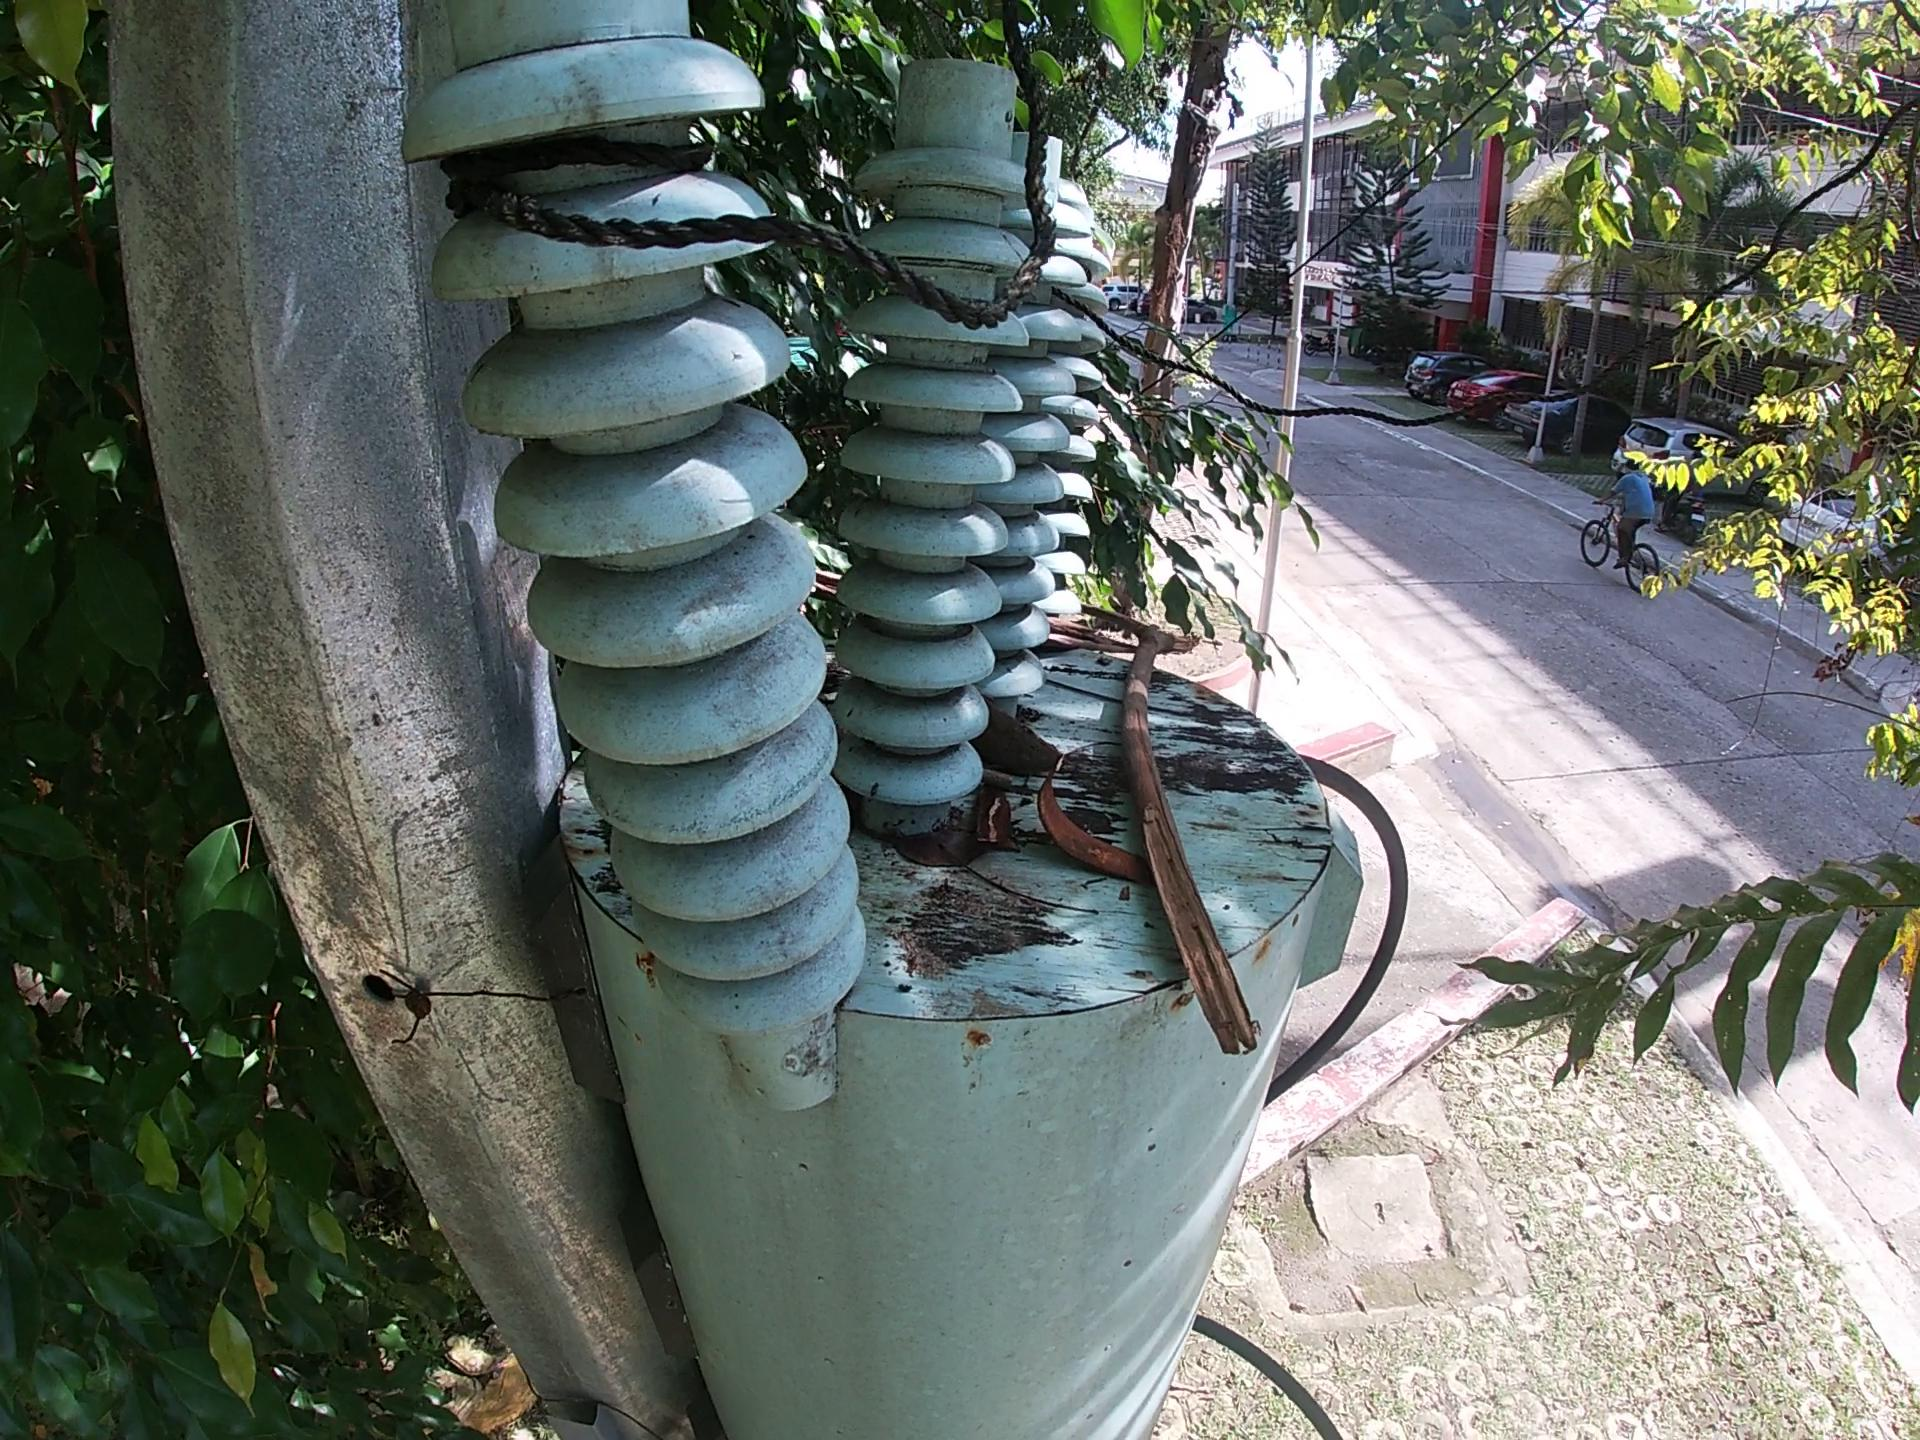leaf: (872, 830, 974, 874)
mahogany fruit: (1036, 765, 1135, 889), (981, 706, 1067, 777)
tree branch: (1092, 594, 1287, 1088), (1048, 675, 1250, 728), (978, 871, 1120, 921), (1039, 614, 1125, 659), (983, 765, 1019, 859), (984, 771, 1027, 800)
